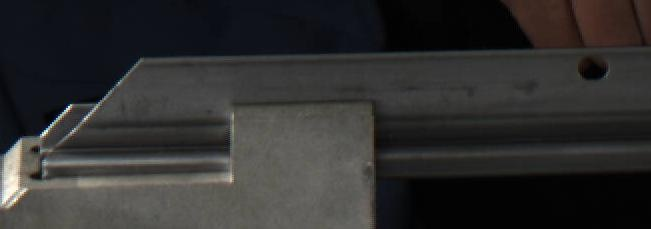cut: (30, 50, 211, 182)
holes: (577, 54, 610, 80)
